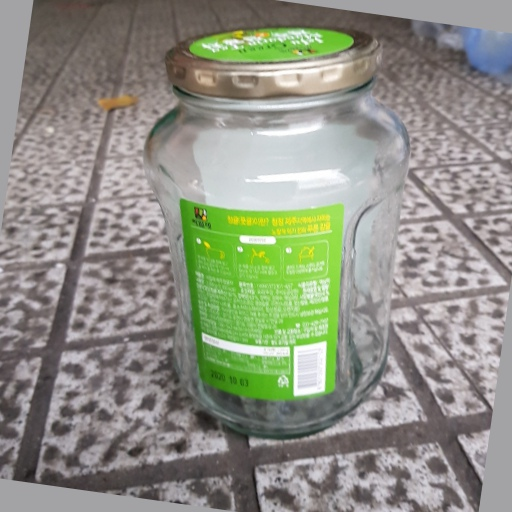Glass_5: (145, 21, 410, 440)
